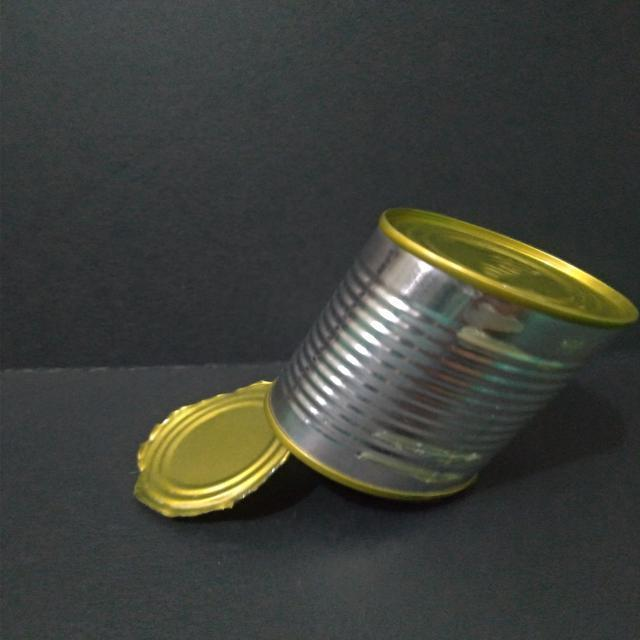metal-can: (131, 200, 640, 521)
